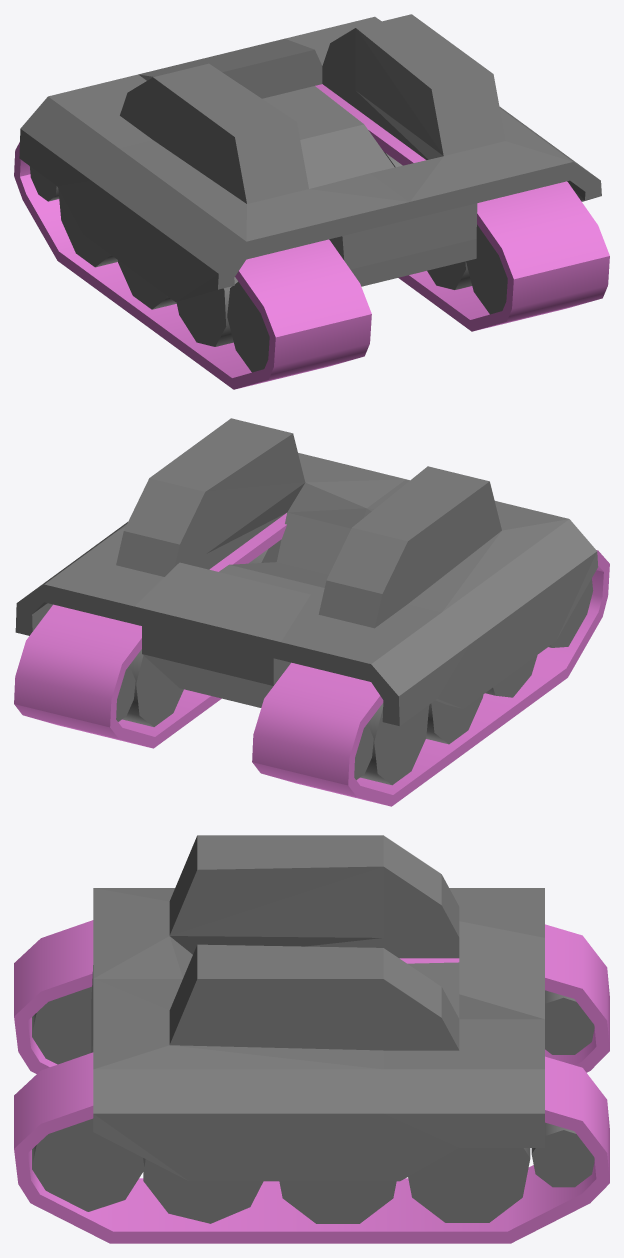
Rendered from TankTreadsA.FBX.
3 views of the same model, one above another, from view 1: azimuth 30°, elevation 25°; view 2: azimuth 150°, elevation 25°; view 3: azimuth 270°, elevation 25° (orthographic). The views are drawn at different scales.
Visible parts, largest first — view 1: Box012, TankTreadsLeftA, TAnkTreadsRightA; view 2: Box012, TankTreadsLeftA, TAnkTreadsRightA; view 3: Box012, TAnkTreadsRightA, TankTreadsLeftA.
Part boxes in pixels (left/top/right/bottom): Box012: left=19, top=14, right=601, bottom=372; TankTreadsLeftA: left=14, top=142, right=371, bottom=389; TAnkTreadsRightA: left=315, top=84, right=609, bottom=331; Box012: left=15, top=418, right=598, bottom=785; TankTreadsLeftA: left=252, top=550, right=609, bottom=806; TAnkTreadsRightA: left=14, top=513, right=286, bottom=748; Box012: left=32, top=835, right=594, bottom=1223; TAnkTreadsRightA: left=14, top=1052, right=609, bottom=1243; TankTreadsLeftA: left=14, top=920, right=609, bottom=1073.
Bounding box in the file's own units: 405 × 478 × 216.
